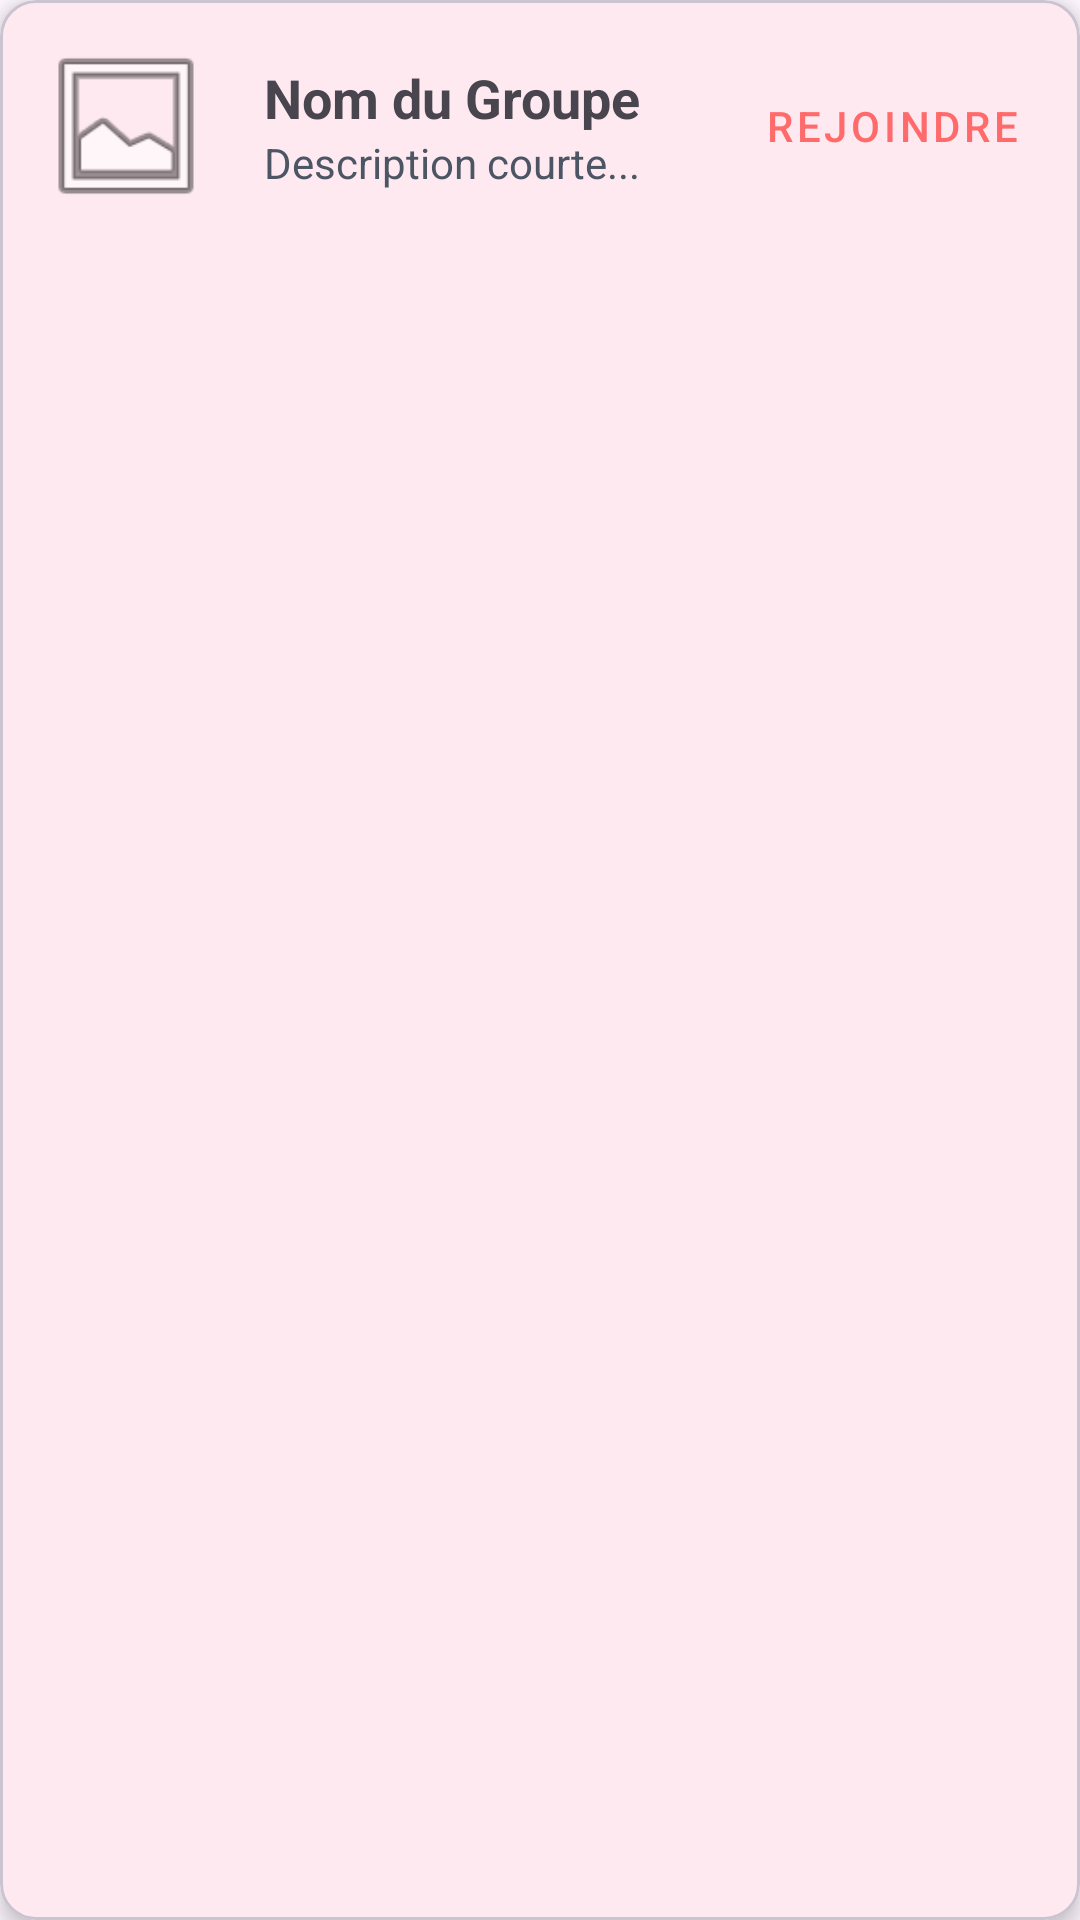

Icon bounding boxes for this 1080×1920 phone screenshot, format (x1, y1, x2, y2):
gallery: (58, 58, 194, 194)
